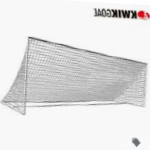goals: (1, 34, 150, 115)
